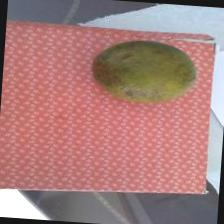Orange Rotten: (84, 32, 206, 117)
